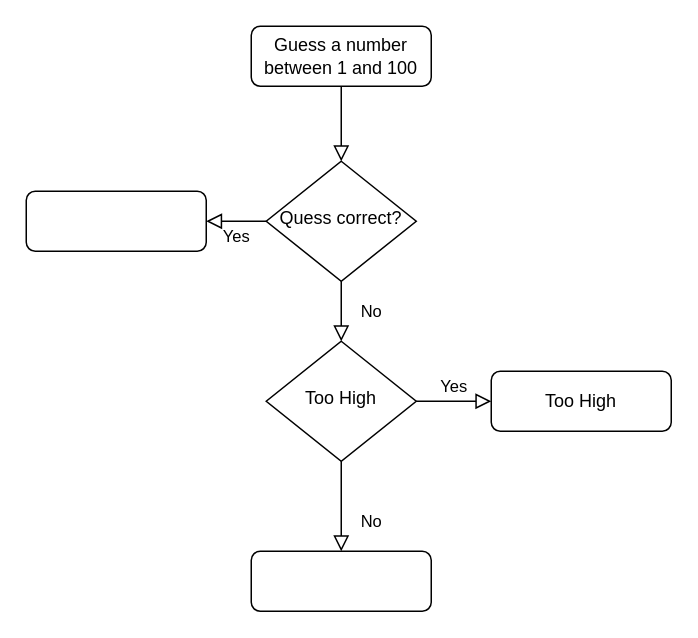
Image size: 698x638. Some labels were removed from this diagram. The centre of each missing label's shape, as x and y in pixels:
"Display correct number" goes at point 115,220.
"Too Low" goes at point 340,580.
